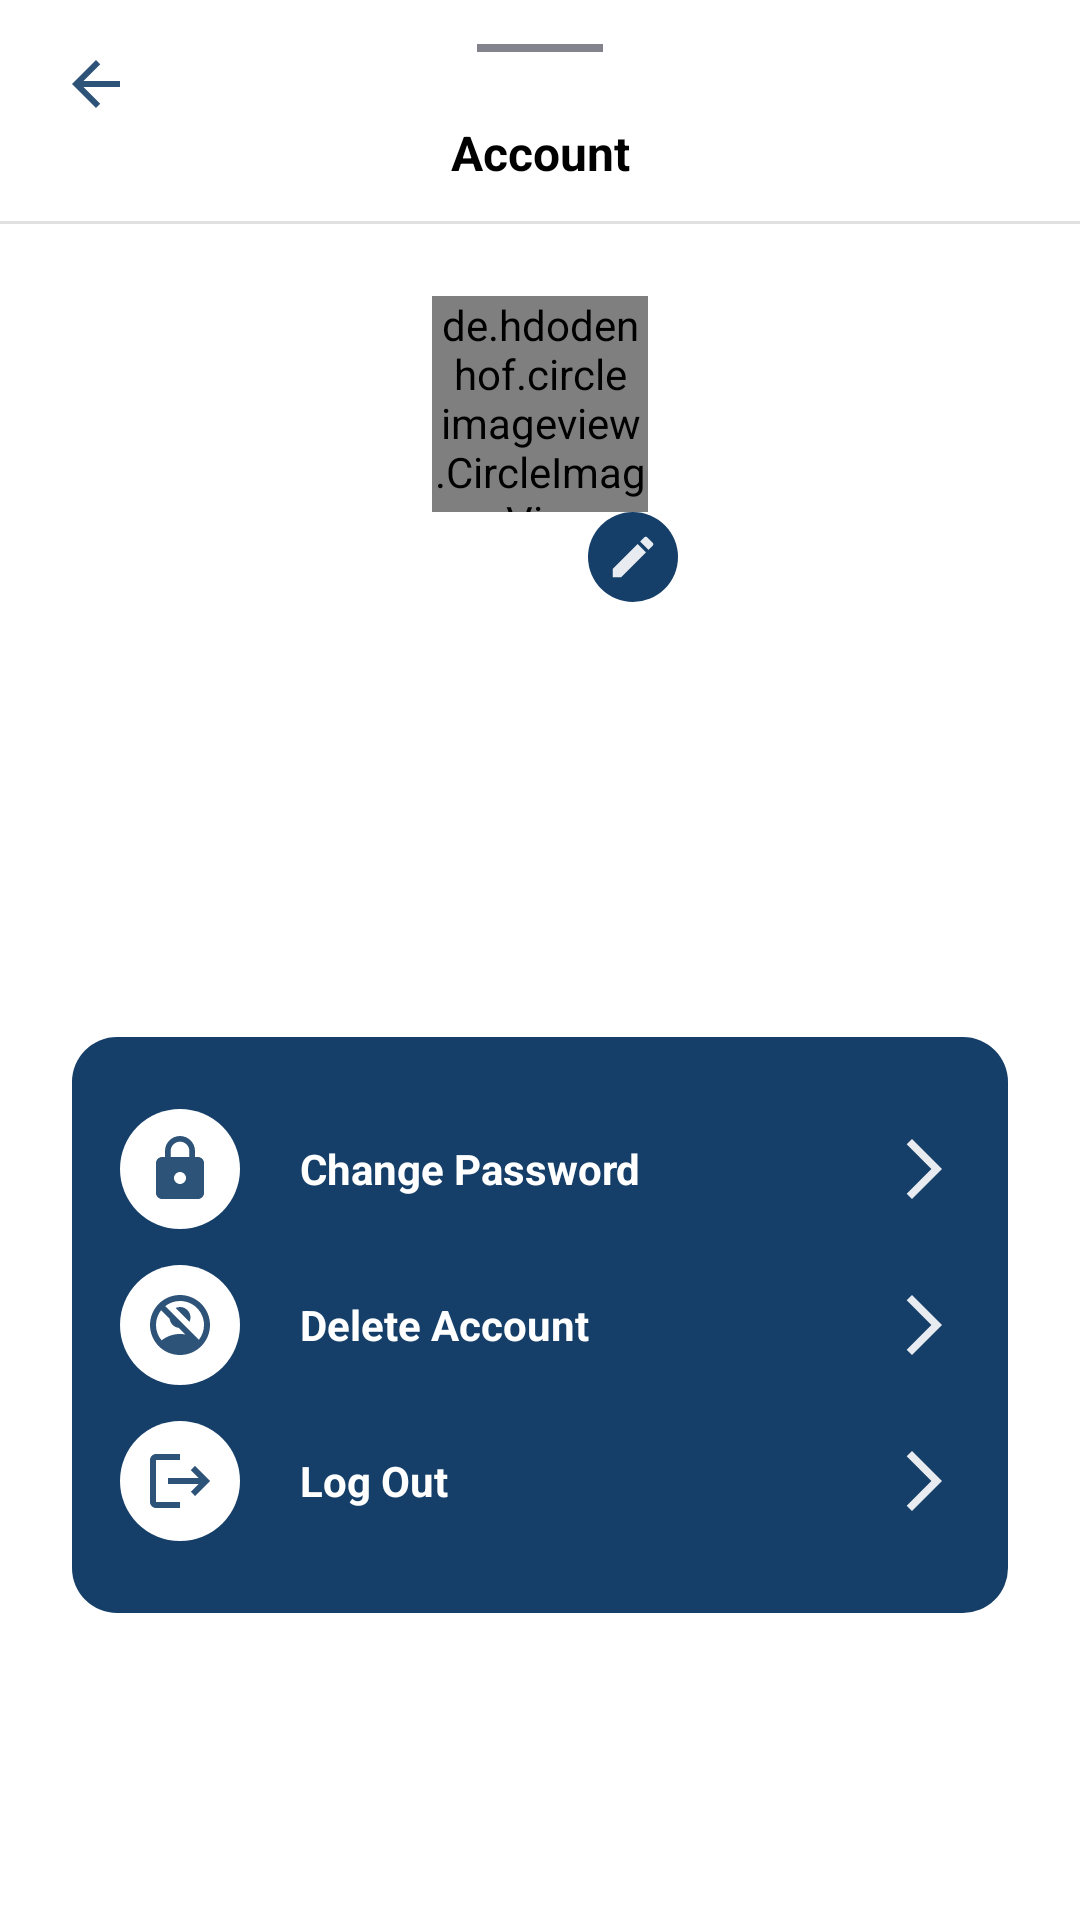

Named icons in this screenshot (1080 x 1920) and their bounding boxes, box(x1, y1, x2, y2):
base settings password: box(120, 1109, 240, 1229)
pencil: box(588, 512, 678, 602)
